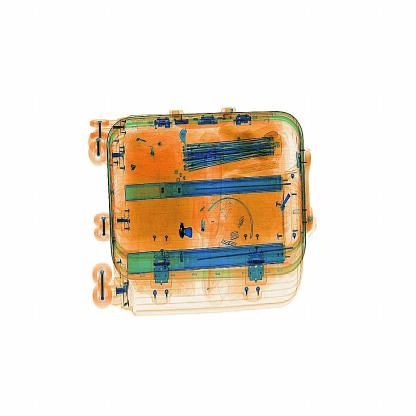wrench: (164, 214, 204, 245)
